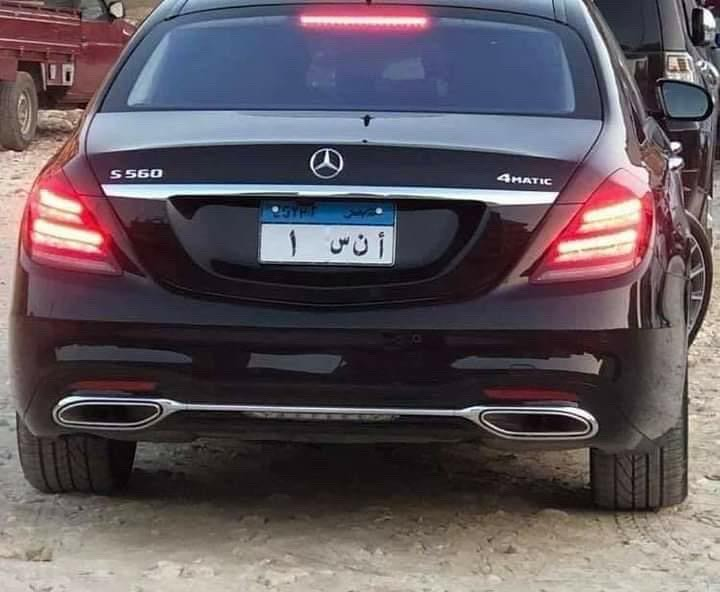carpl: (259, 203, 396, 263)
